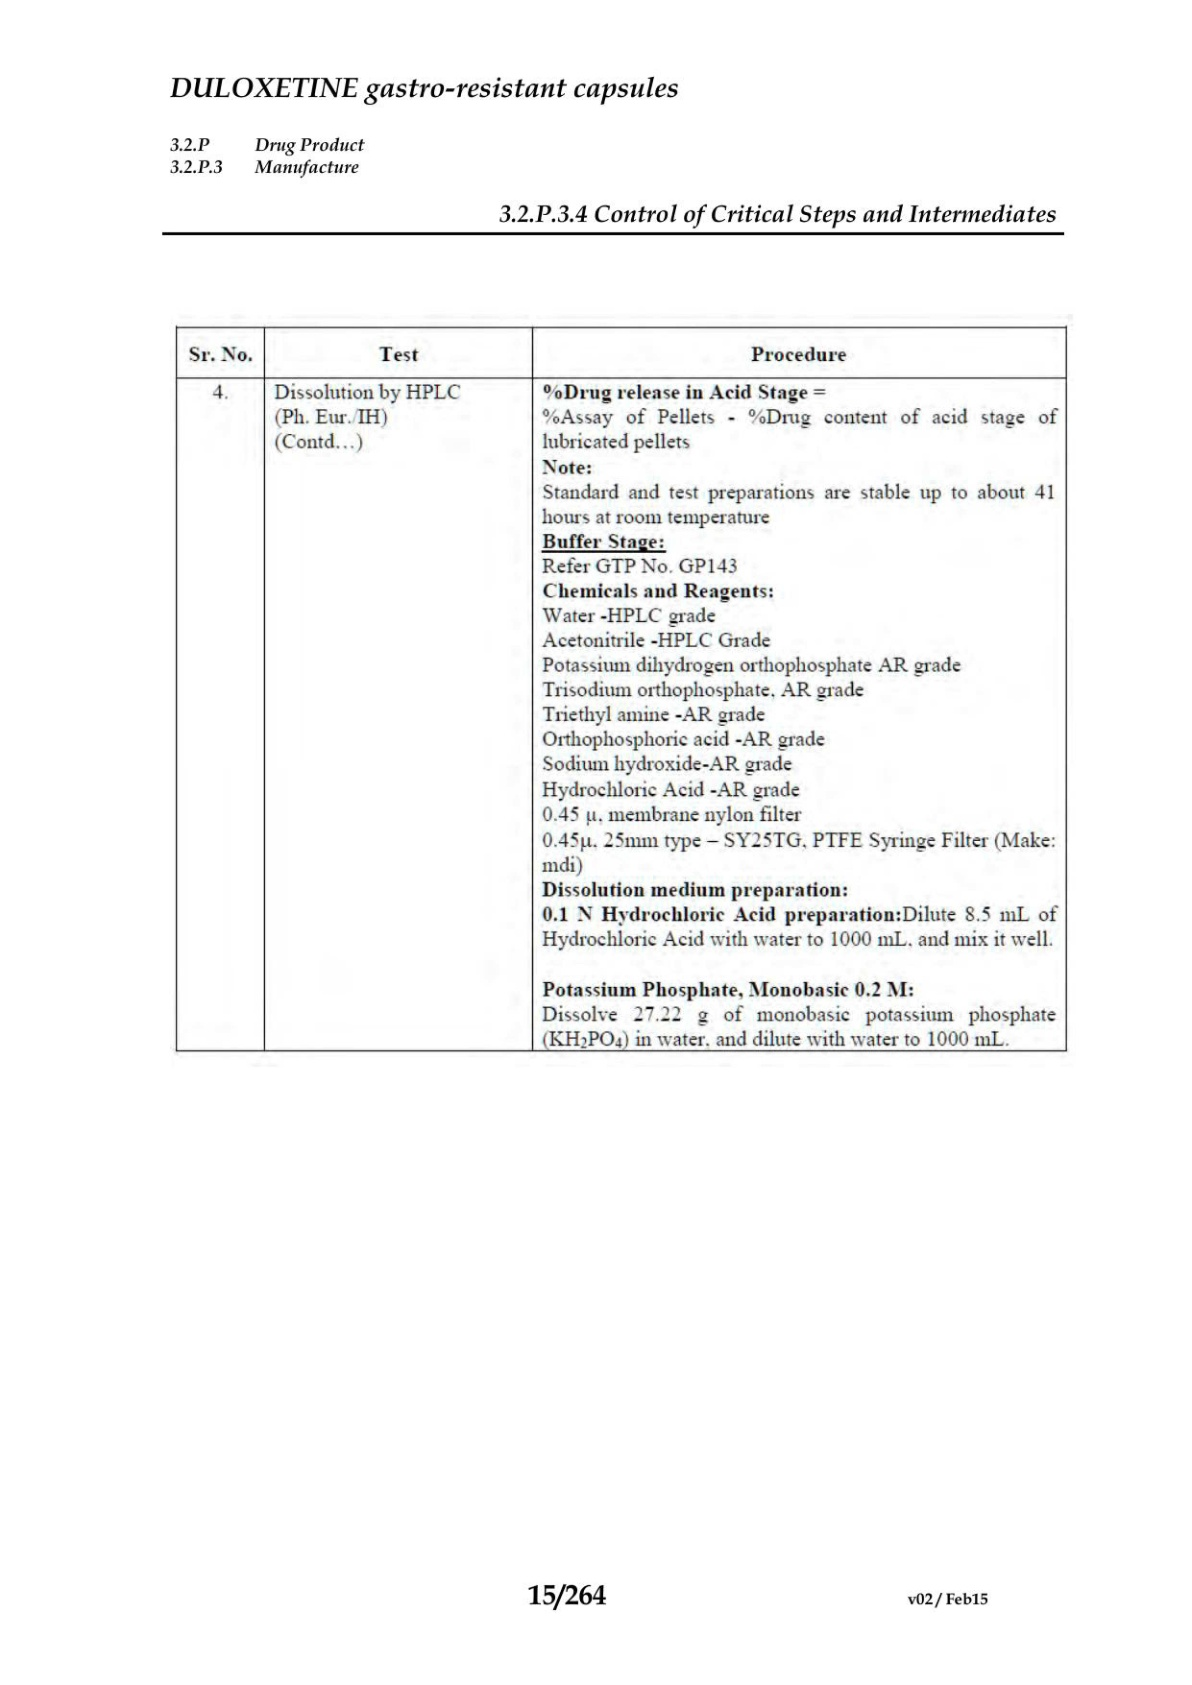full_lined: (175, 325, 1068, 1053)
